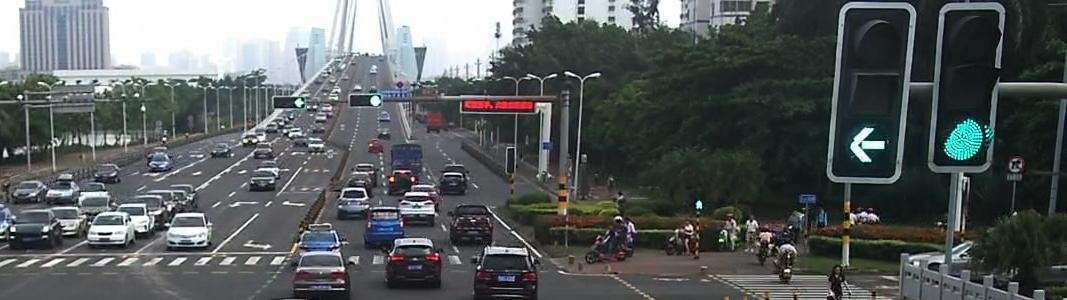green: (943, 116, 985, 165), (369, 91, 380, 104)
greenleft: (844, 124, 891, 167), (295, 96, 304, 110)
greenpeople: (695, 197, 704, 213)
